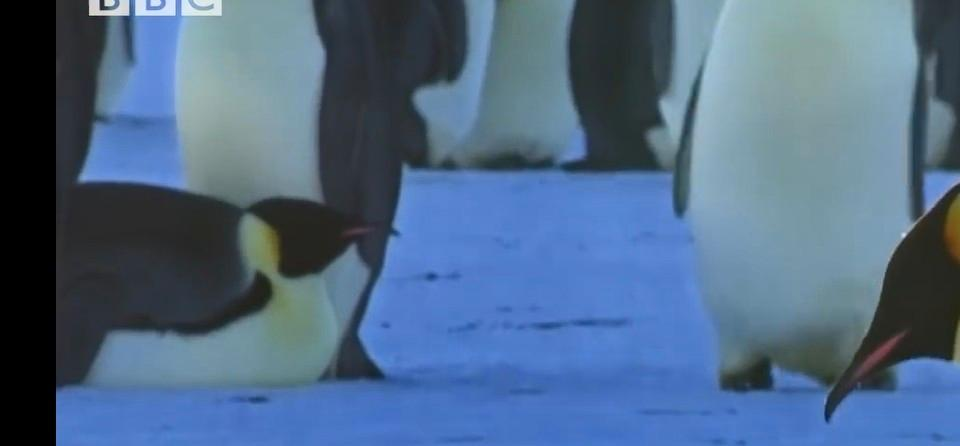Emperor Penguin: (50, 178, 428, 392), (813, 115, 960, 446)
